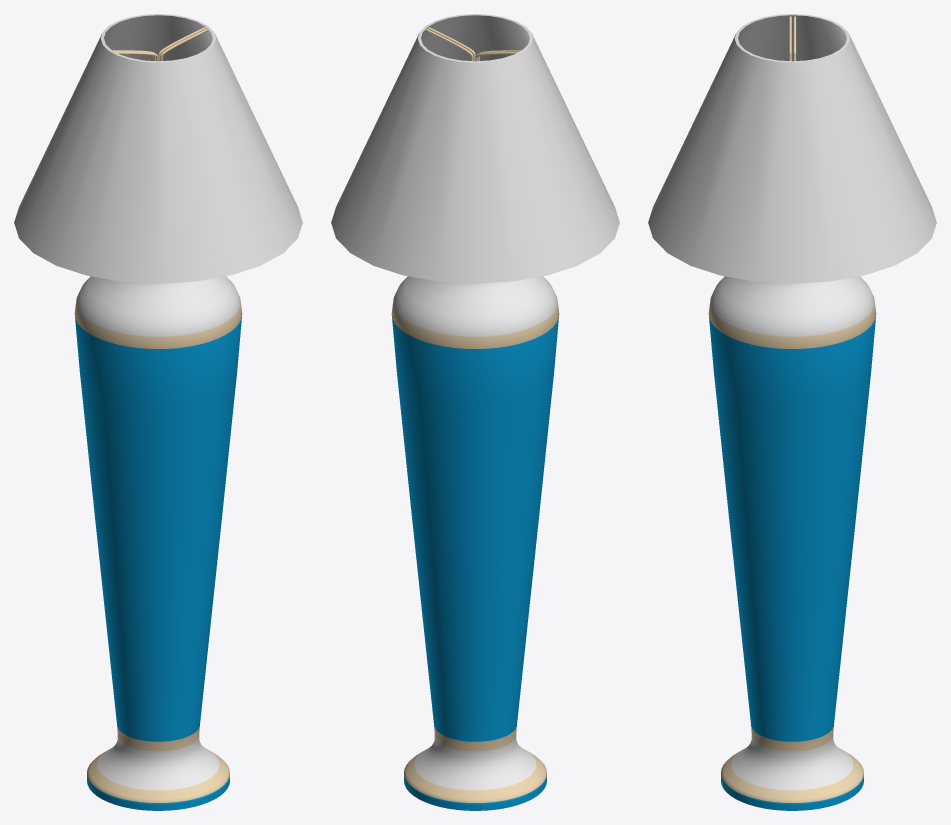
File: lamp_vase.glb
3 views of the same model, side by side, from view 1: azimuth 30°, elevation 25°; view 2: azimuth 150°, elevation 25°; view 3: azimuth 270°, elevation 25° (orthographic).
Parts seen in each view (by area): view 1: Pedestal_vase, Lamp_shade; view 2: Pedestal_vase, Lamp_shade; view 3: Pedestal_vase, Lamp_shade.
Part boxes in pixels (x1,y1,x2,y2): Pedestal_vase: (74, 276, 242, 810); Lamp_shade: (14, 14, 302, 283); Pedestal_vase: (391, 276, 559, 810); Lamp_shade: (331, 14, 619, 283); Pedestal_vase: (708, 276, 876, 810); Lamp_shade: (648, 14, 936, 283).
Bounding box in the file's own units: 0.282 × 0.8 × 0.282.
